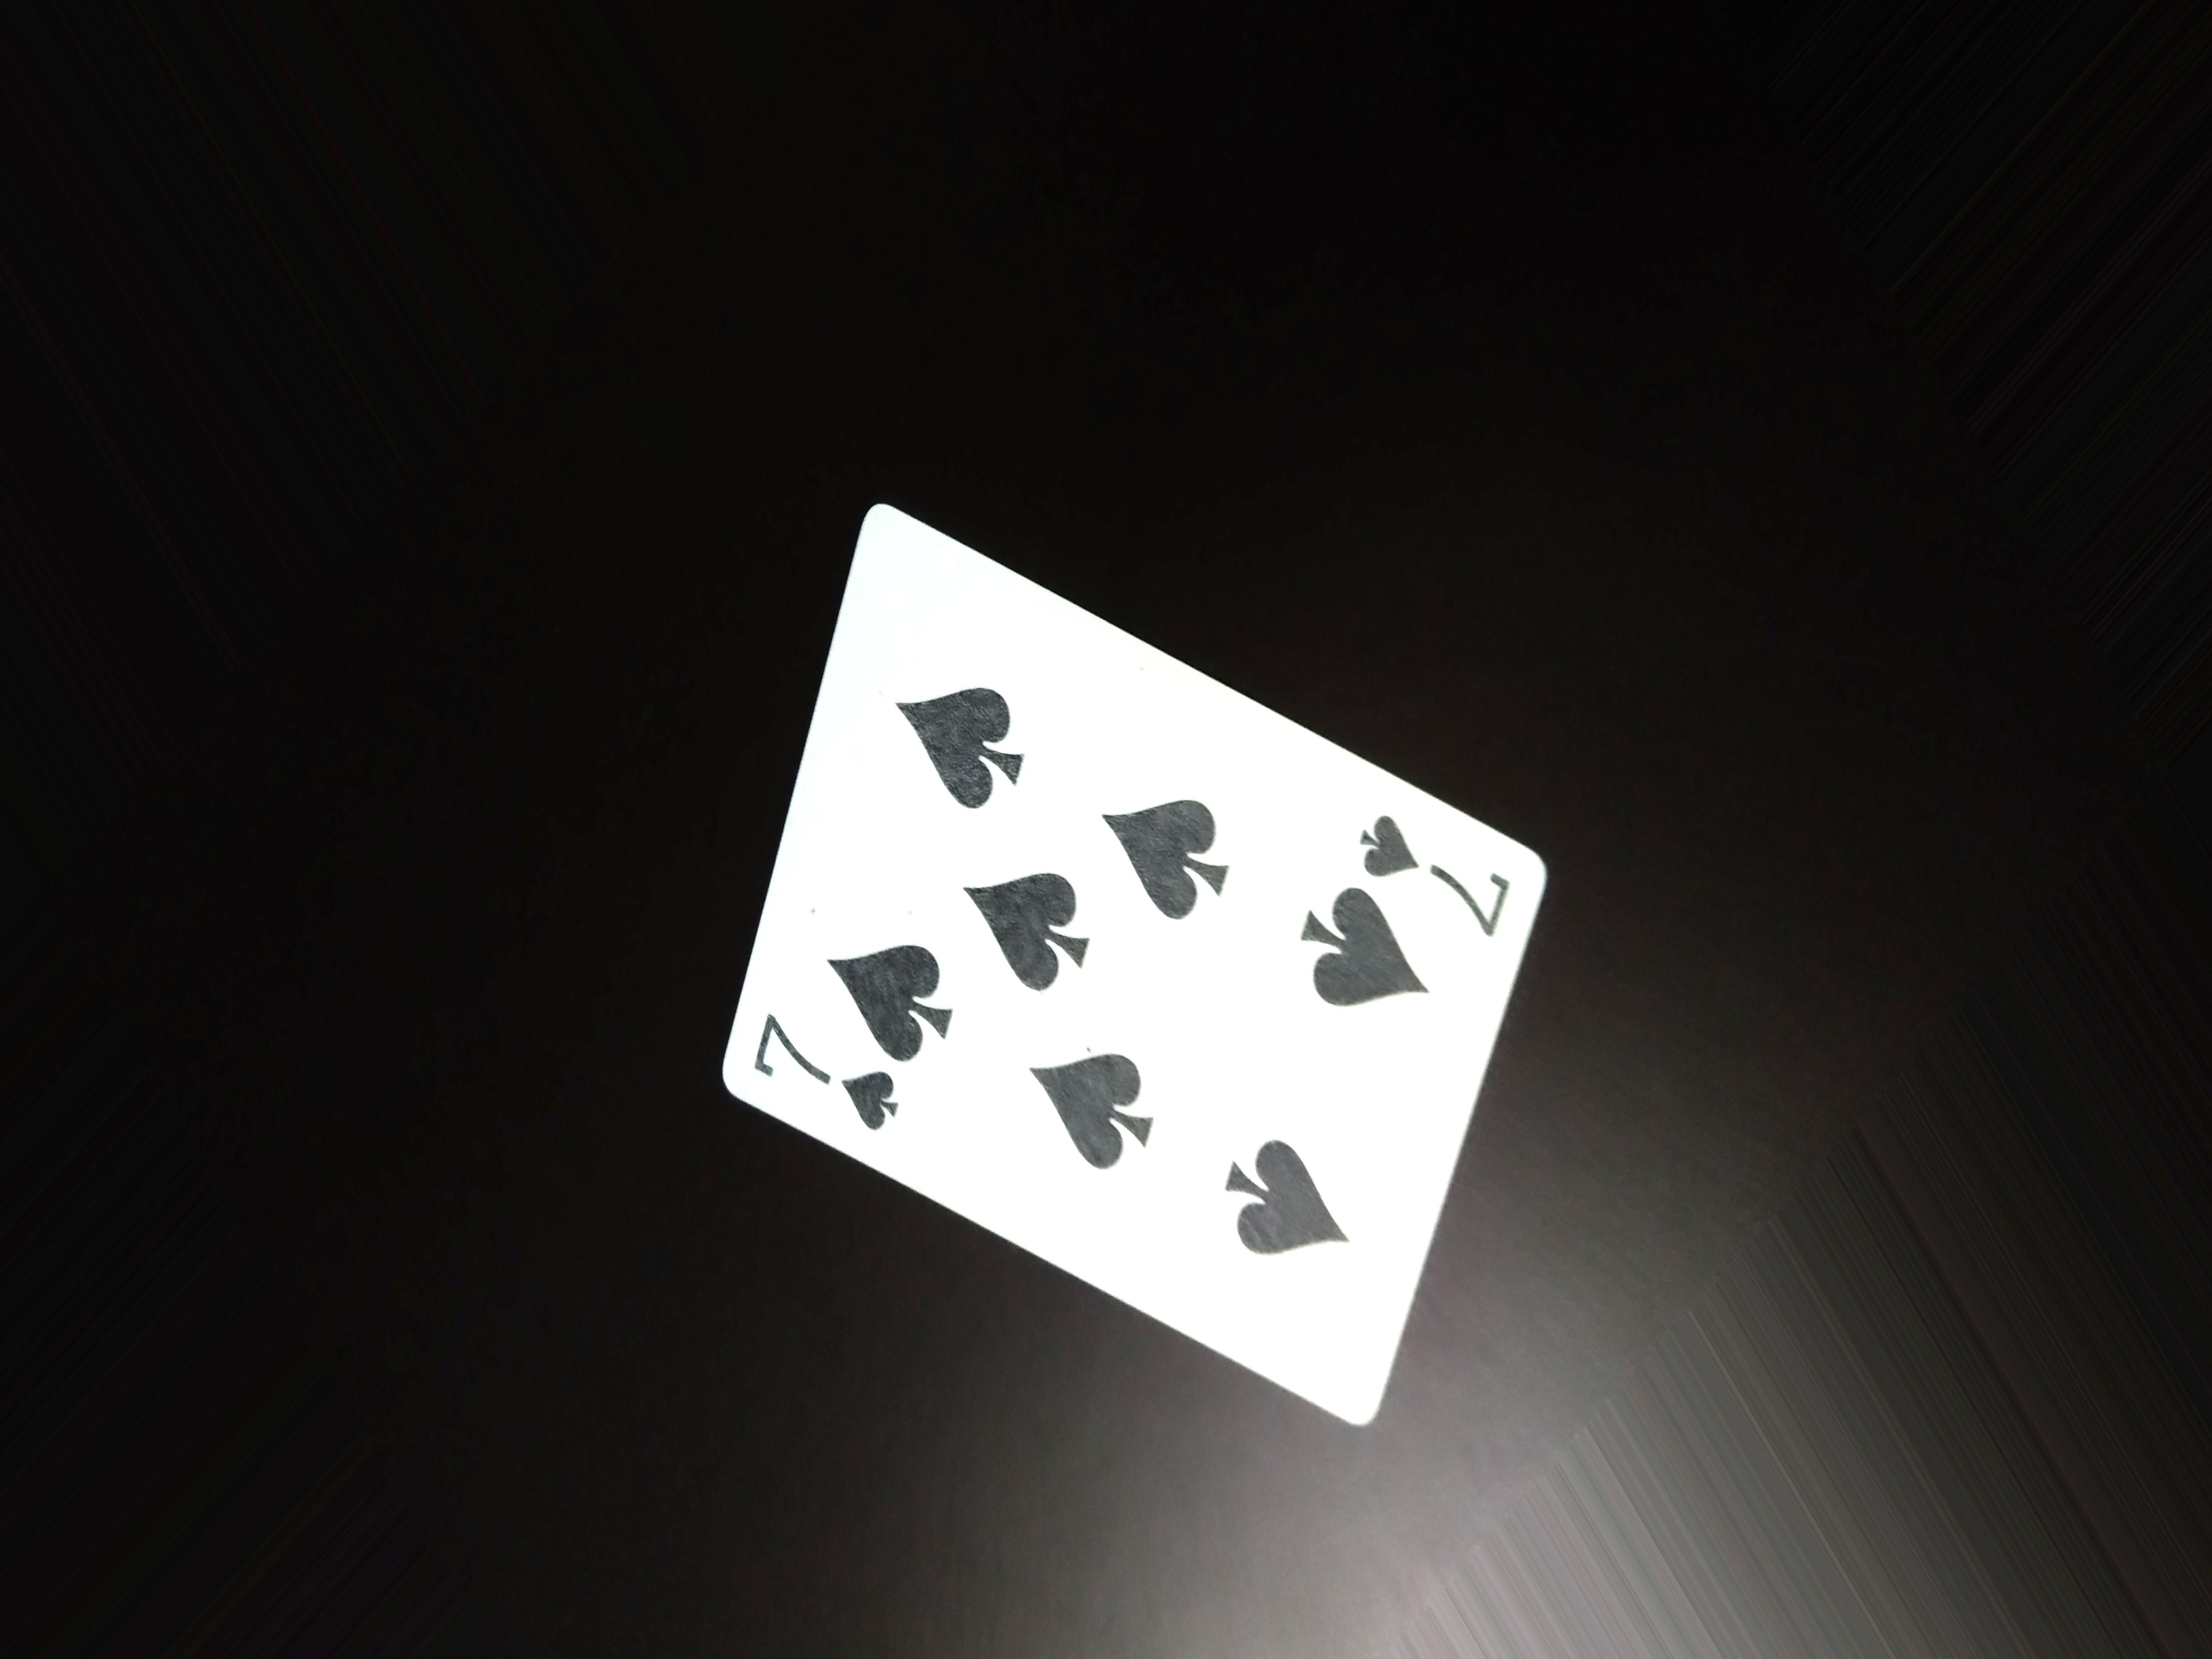7S: (742, 1006, 934, 1166)
